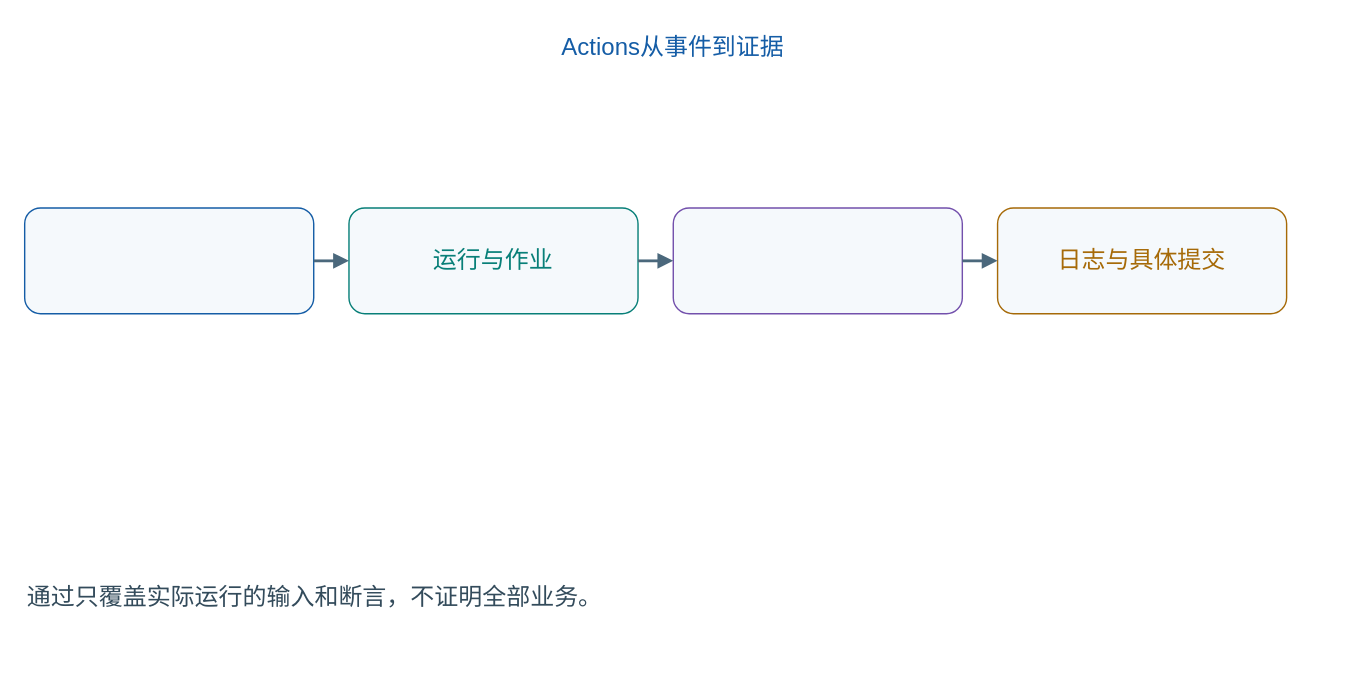
The diagram is 1347 pixels wide and 689 high, and some of its shapes have lost their labels. The box of each missing label's shape, as (x1, y1, x2, y2) in pixels:
步骤及矩阵: (672, 207, 962, 314)
触发事件: (23, 207, 314, 314)
